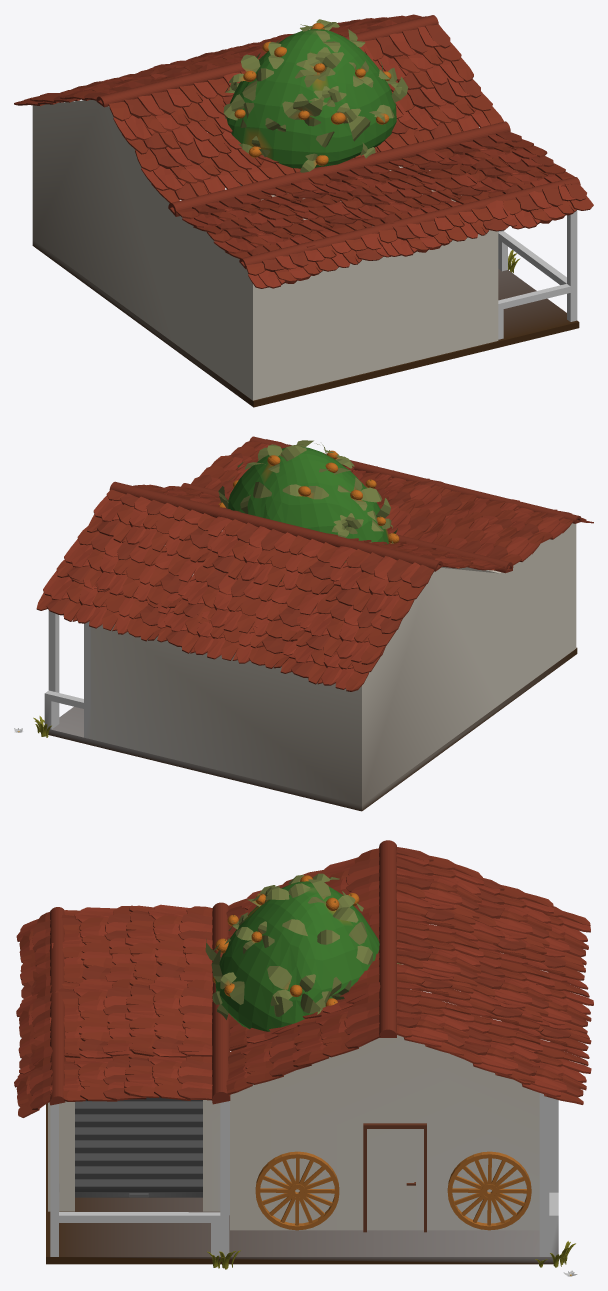
Rendered from pacote.glb.
3 renders of one model, top to bottom at view 1: azimuth 30°, elevation 25°; view 2: azimuth 150°, elevation 25°; view 3: azimuth 270°, elevation 25°, orthographic. The views are drawn at different scales.
Visible parts, largest first — view 1: casa, laranjeira; view 2: casa, laranjeira; view 3: casa, laranjeira.
Boxes of the visible parts, bbox=[...] form: casa: bbox=[14, 14, 593, 407]; laranjeira: bbox=[223, 19, 408, 172]; casa: bbox=[14, 436, 593, 811]; laranjeira: bbox=[218, 440, 399, 581]; casa: bbox=[14, 840, 593, 1276]; laranjeira: bbox=[205, 873, 401, 1031].
Size of the model in its own units: 9.42 by 6.36 by 11.27.
